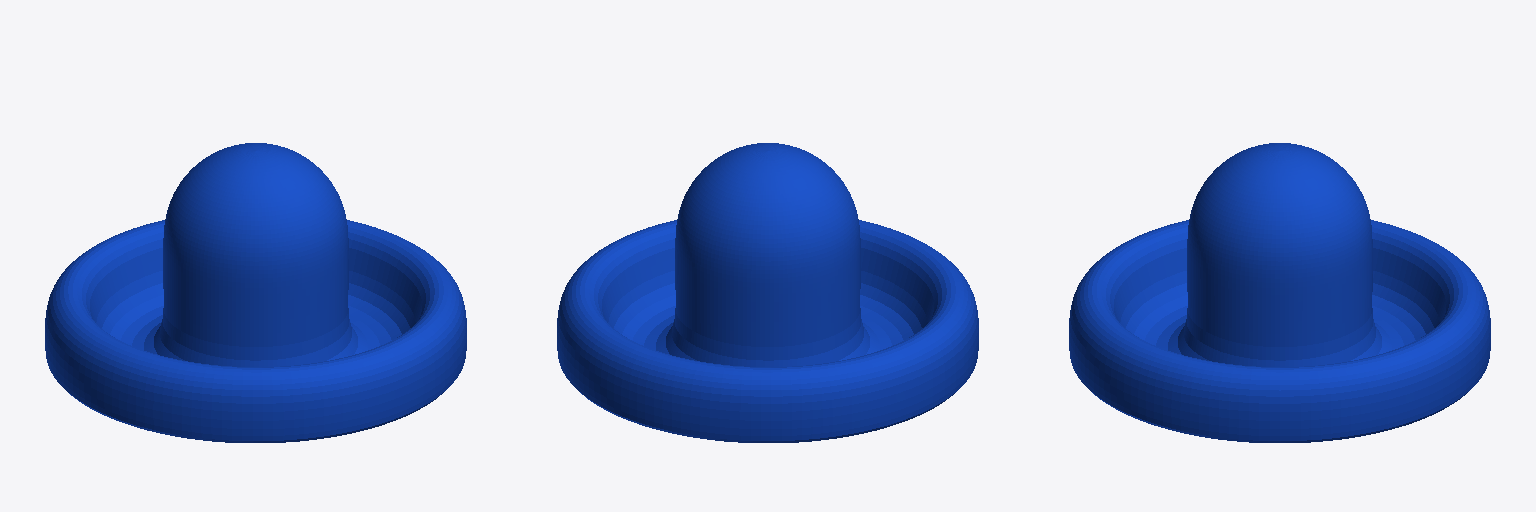
File: maillet.obj
3 views of the same model, side by side, from view 1: azimuth 30°, elevation 25°; view 2: azimuth 150°, elevation 25°; view 3: azimuth 270°, elevation 25° (orthographic).
Parts seen in each view (by area): view 1: maillet_Sphere; view 2: maillet_Sphere; view 3: maillet_Sphere.
Boxes of the visible parts, x1=… form: maillet_Sphere: x1=45, y1=143, x2=466, y2=442; maillet_Sphere: x1=557, y1=143, x2=978, y2=442; maillet_Sphere: x1=1069, y1=143, x2=1490, y2=442.
Bounding box in the file's own units: 17.01 × 9.32 × 17.01.